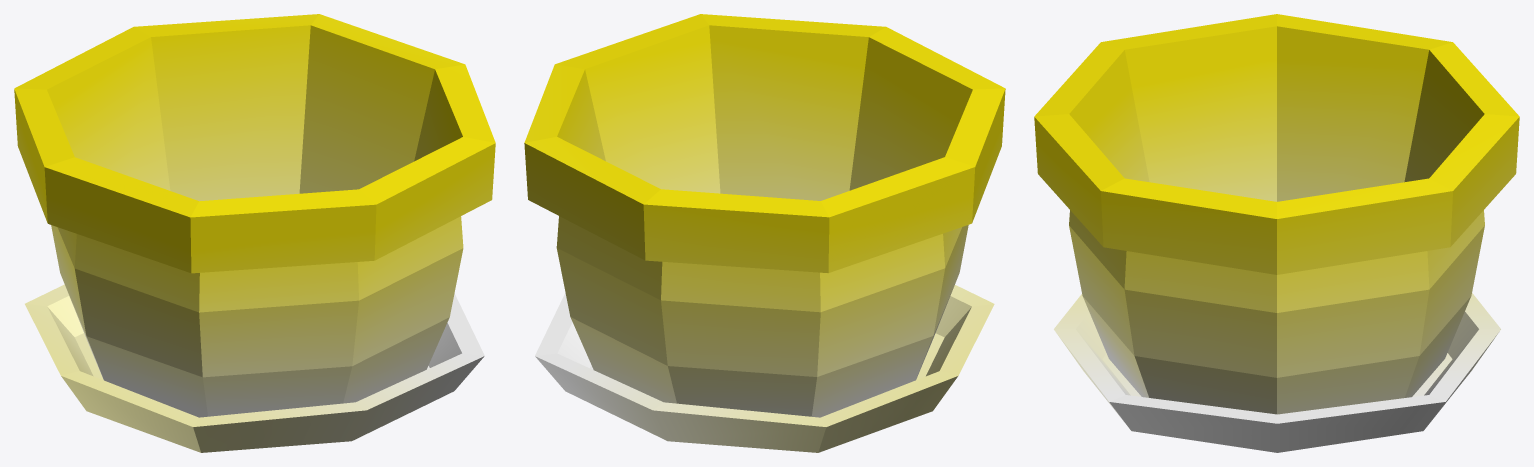
The model's file is PlantPot_05.fbx.
3 views of the same model, side by side, from view 1: azimuth 30°, elevation 25°; view 2: azimuth 150°, elevation 25°; view 3: azimuth 270°, elevation 25° (orthographic).
Parts seen in each view (by area): view 1: PlantPot_05; view 2: PlantPot_05; view 3: PlantPot_05.
Boxes of the visible parts, x1=… form: PlantPot_05: x1=14, y1=14, x2=495, y2=452; PlantPot_05: x1=524, y1=14, x2=1005, y2=452; PlantPot_05: x1=1034, y1=14, x2=1519, y2=452.
Bounding box in the file's own units: 18.23 × 10.64 × 18.23.
